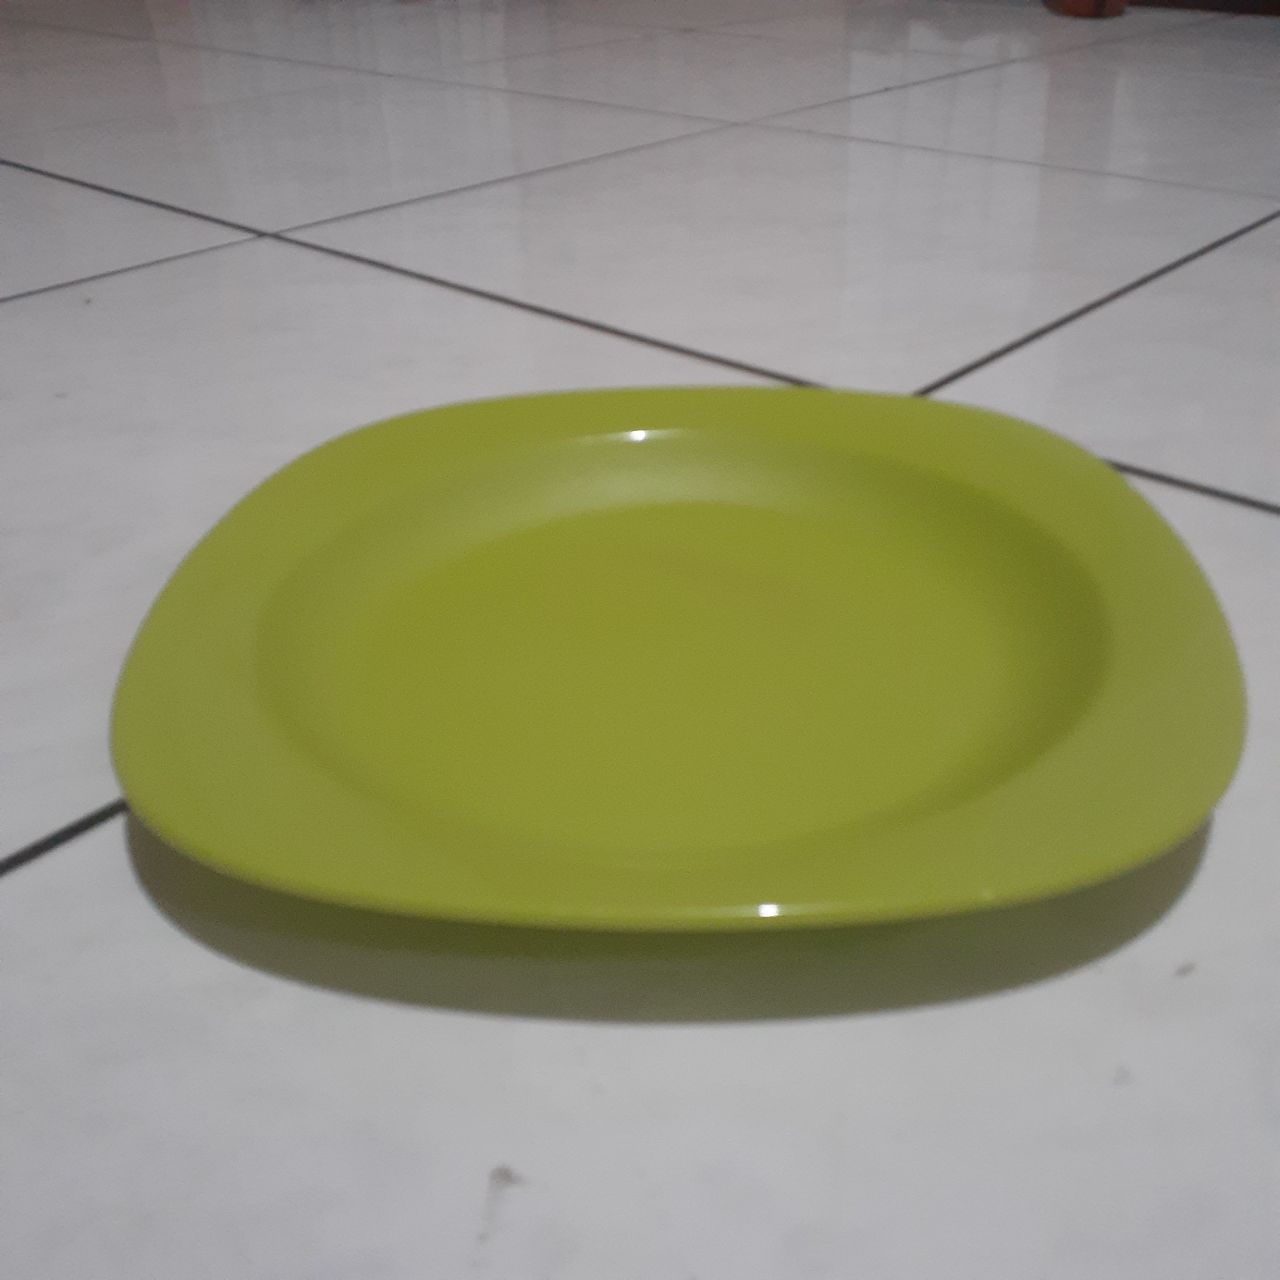piring: (105, 384, 1242, 960)
